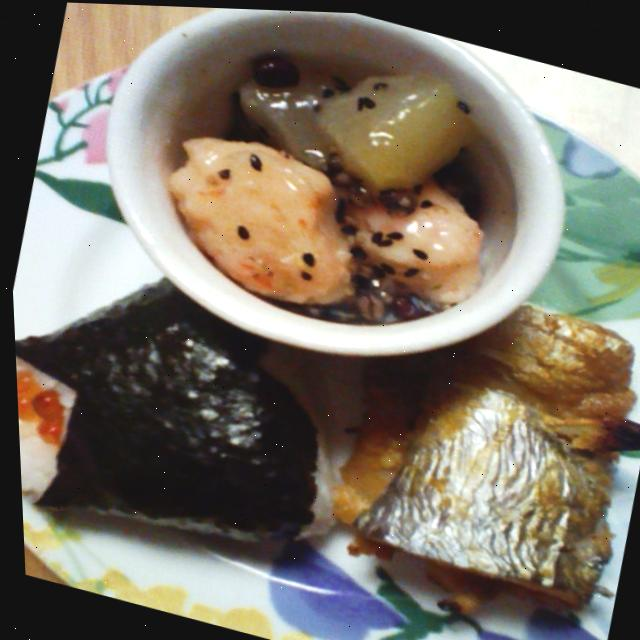米饭主食: (7, 212, 389, 597)
